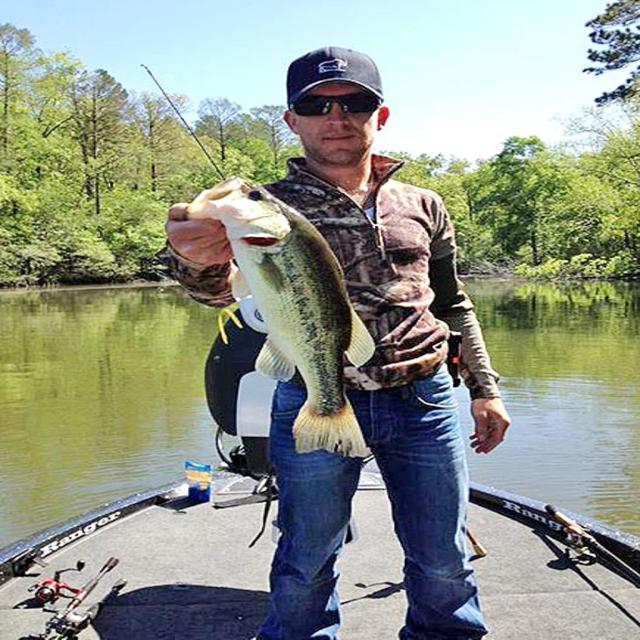Face: (279, 67, 399, 167)
